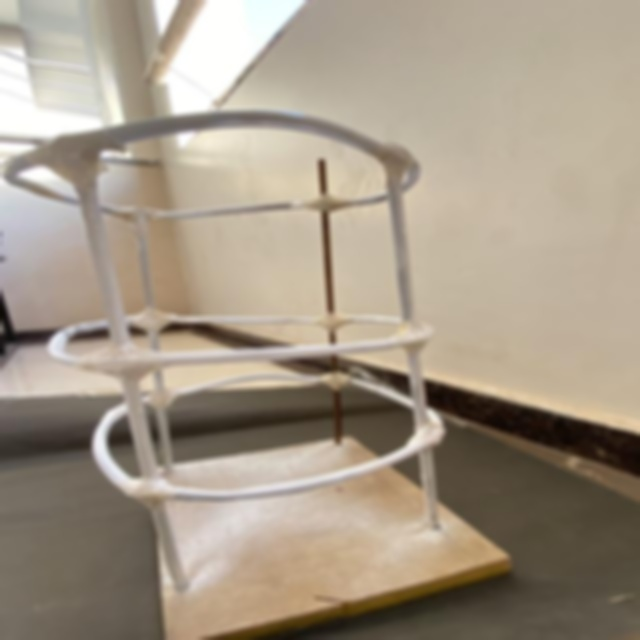silo: (16, 105, 511, 592)
